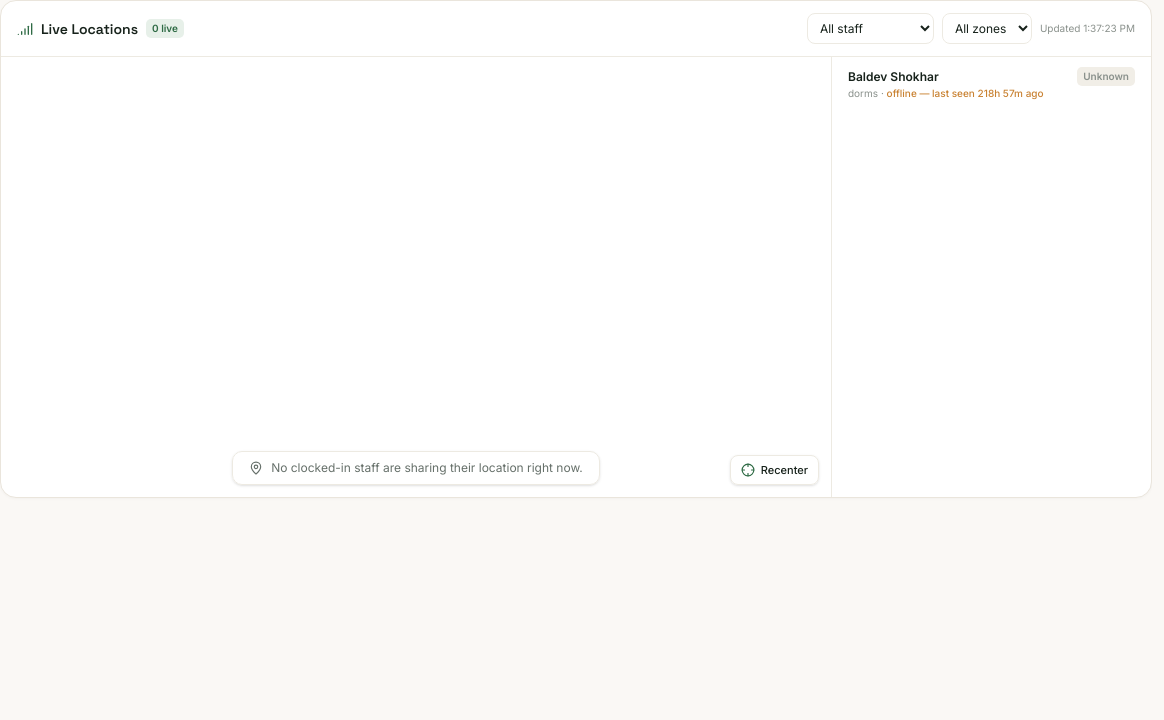
Test: LiveLocationMap › fetches a stale-capable lookup when the filtered employee is offline
Select "Baldev Shokhar" in the dropdown named "Filter by employee" at (870, 28), box 807,13 -> 934,44
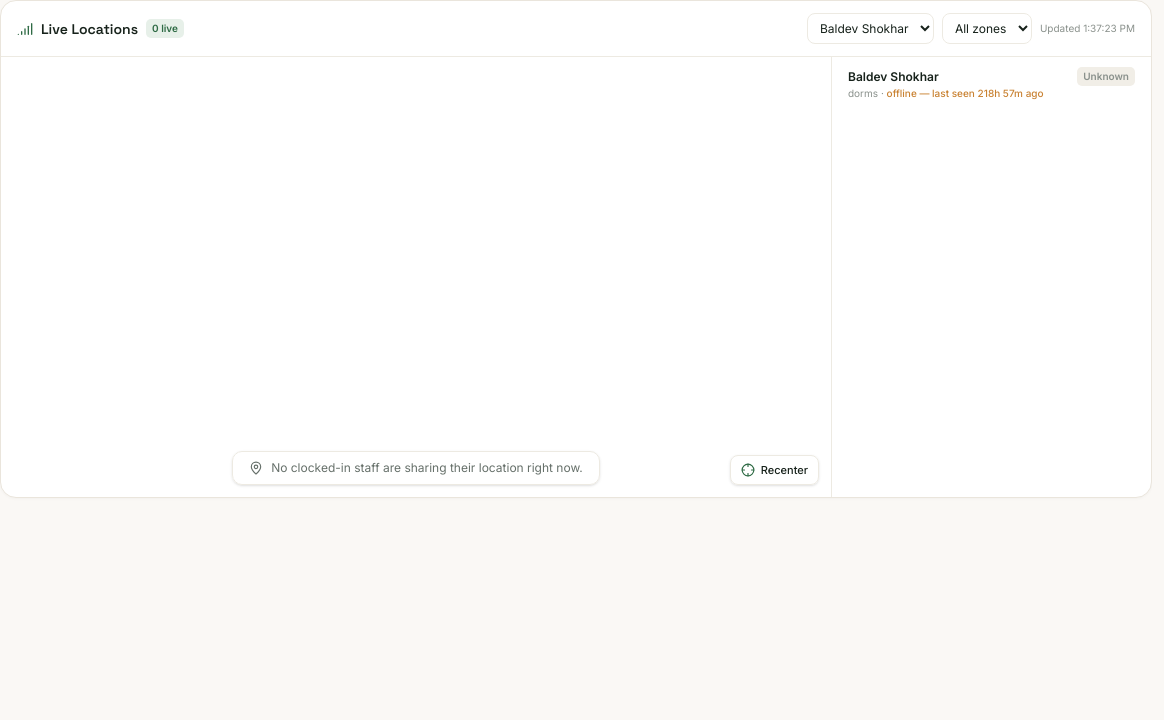
The stale entry opens the detail panel as "Not reporting".
Click the button "Baldev Shokhar" at (992, 84), box 832,57 -> 1151,111
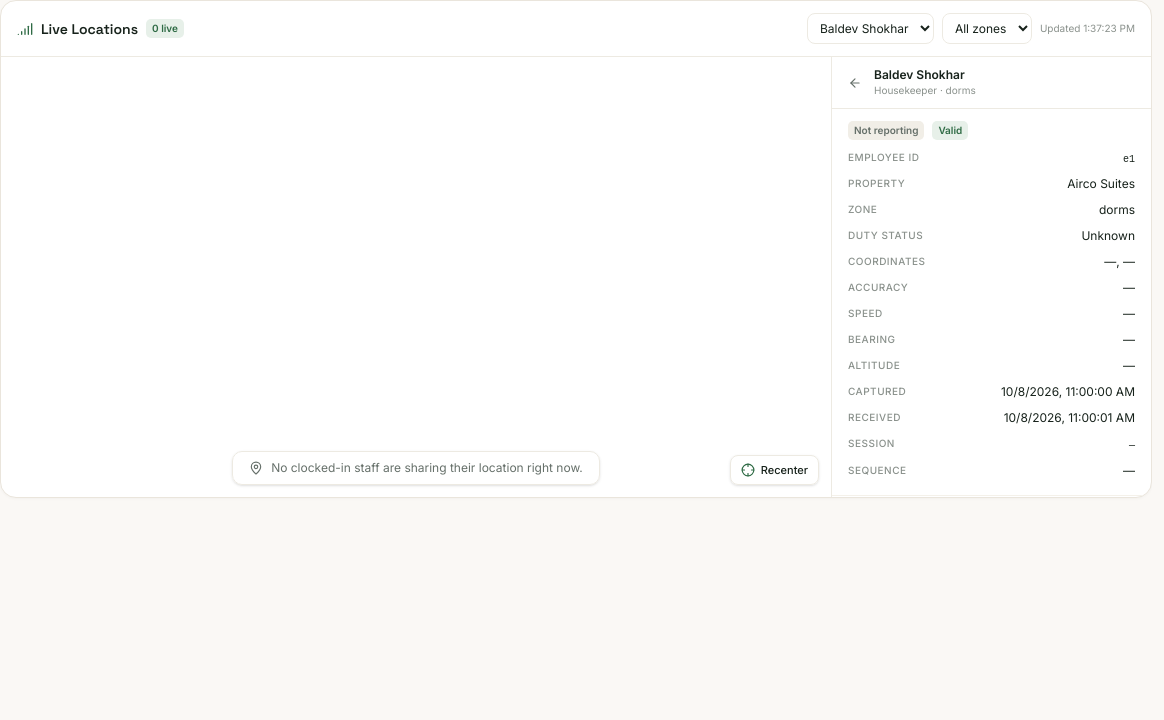
Now the text "Not reporting" is shown, box 848,121 -> 924,140
